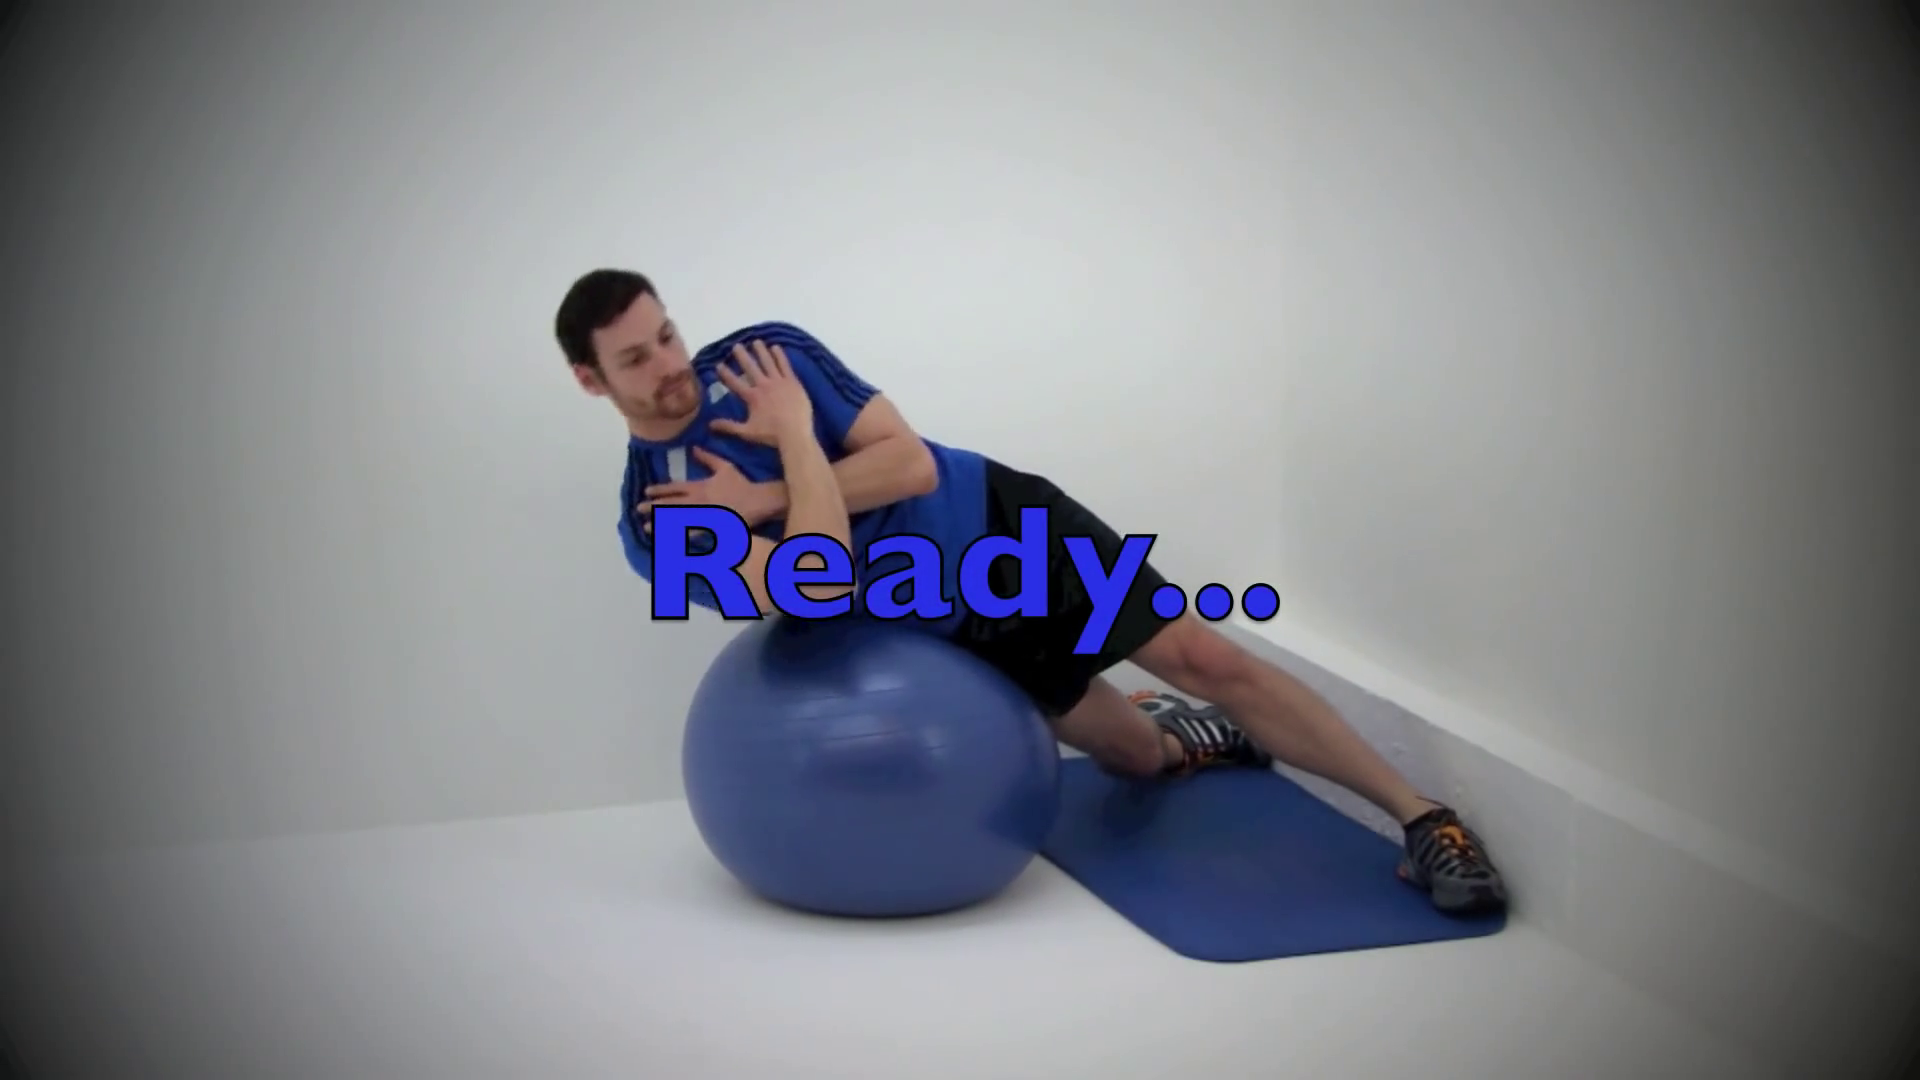yogaball: (673, 597, 1089, 945)
